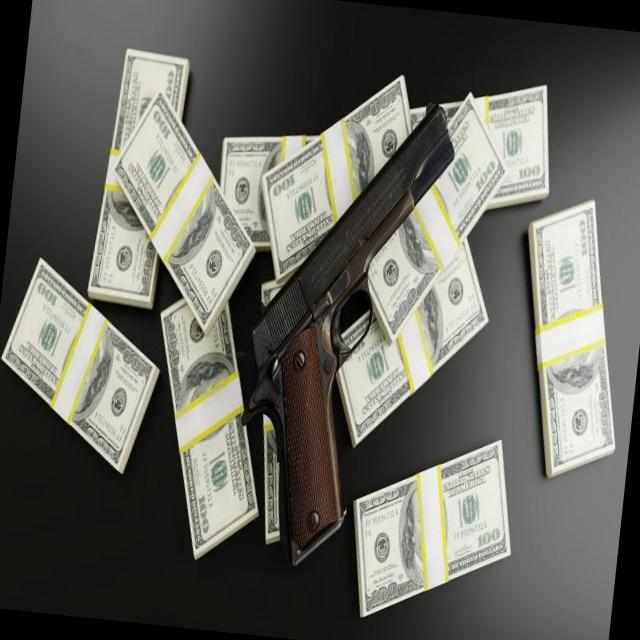Gun: (242, 105, 454, 563)
